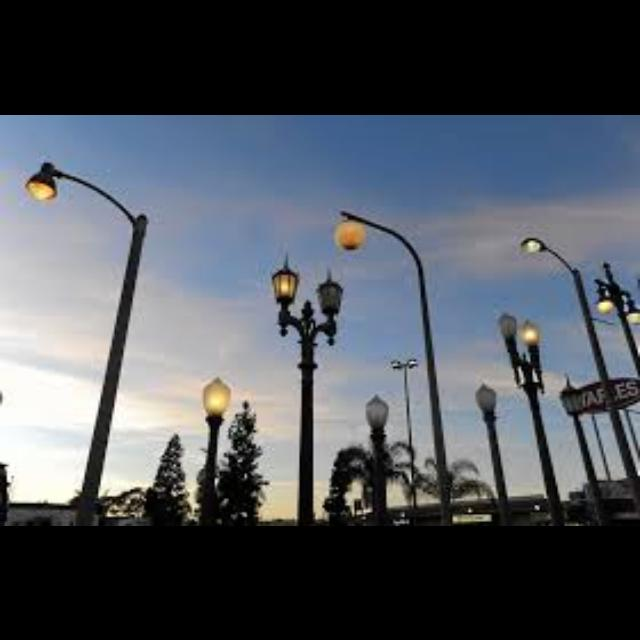Street-Lamp: (16, 147, 152, 525), (188, 347, 238, 526)
